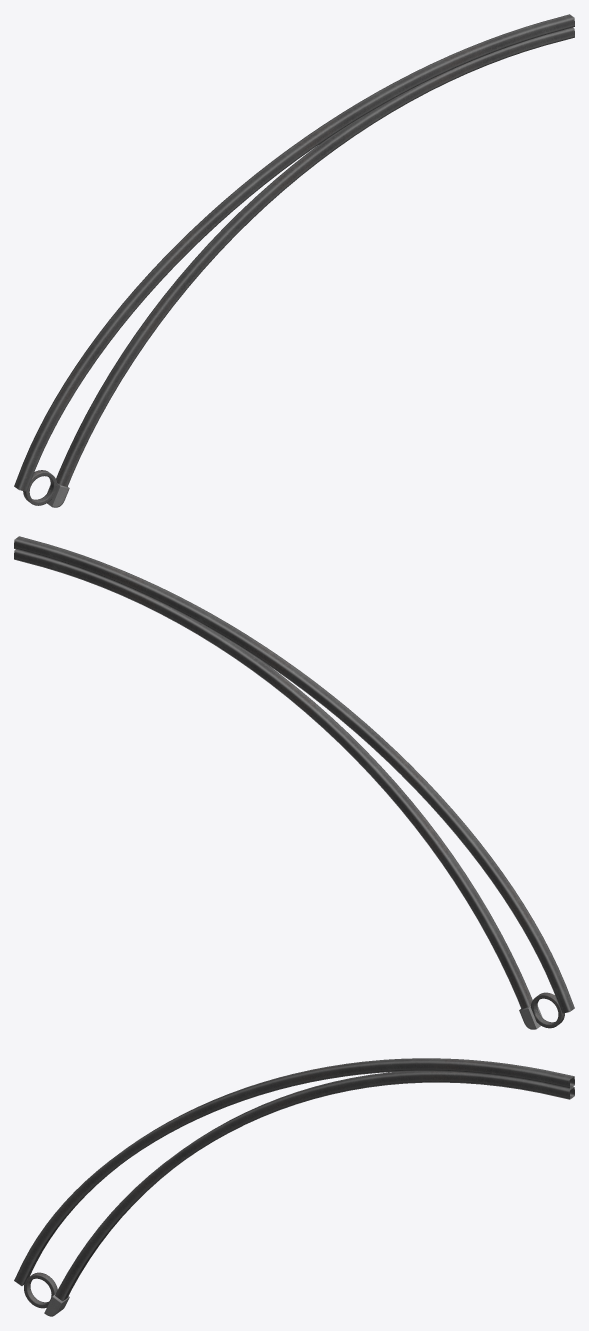
File: SM_RoofSupport2.FBX
3 renders of one model, top to bottom at view 1: azimuth 30°, elevation 25°; view 2: azimuth 150°, elevation 25°; view 3: azimuth 330°, elevation 25°, orthographic.
Parts seen in each view (by area): view 1: SM_RoofSupport2; view 2: SM_RoofSupport2; view 3: SM_RoofSupport2.
Part boxes in pixels (bbox=[...]): SM_RoofSupport2: bbox=[14, 14, 574, 507]; SM_RoofSupport2: bbox=[14, 536, 574, 1029]; SM_RoofSupport2: bbox=[14, 1058, 574, 1316].
Bounding box in the file's own units: 1520 × 38.41 × 946.
